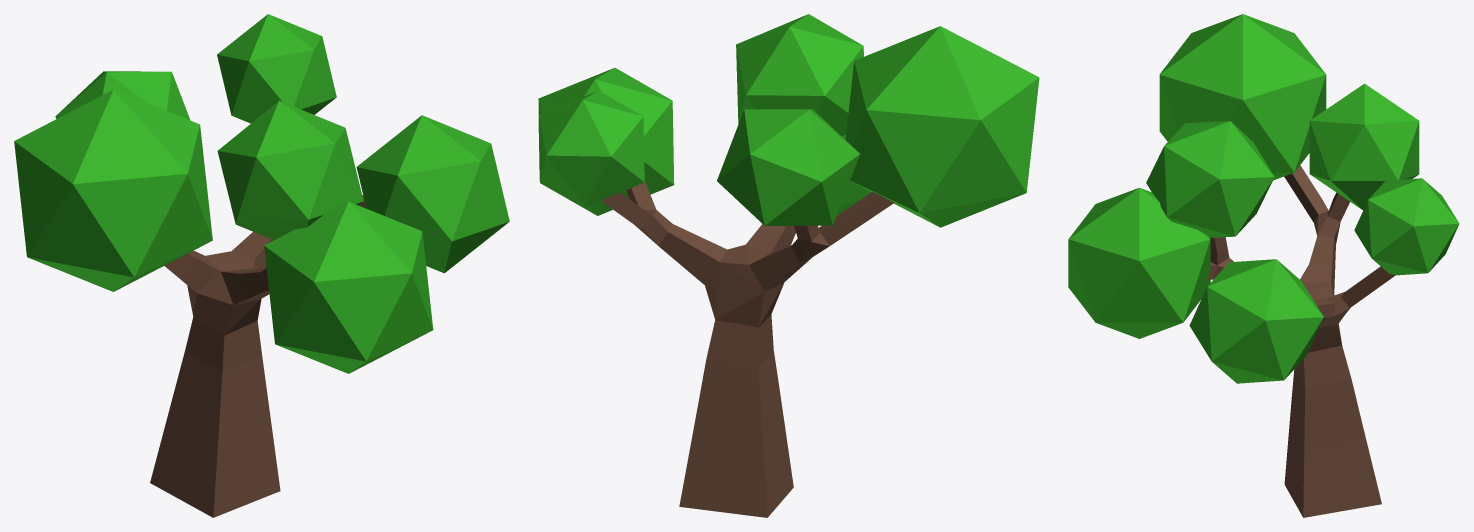
File: Treee.fbx
The picture shows the model from 3 angles, left to right: view 1: azimuth 30°, elevation 25°; view 2: azimuth 150°, elevation 25°; view 3: azimuth 270°, elevation 25°; orthographic projection. The views are drawn at different scales.
Parts seen in each view (by area): view 1: Icosphere.001, Cube.001, Icosphere.003, Icosphere.005, Icosphere.002, Icosphere.004, Icosphere; view 2: Cube.001, Icosphere.001, Icosphere, Icosphere.002, Icosphere.004, Icosphere.005; view 3: Cube.001, Icosphere.001, Icosphere.003, Icosphere.005, Icosphere.002, Icosphere, Icosphere.004.
Boxes of the visible parts, x1,y1,x2,y2 form: Icosphere.001: (14, 89, 212, 291); Cube.001: (150, 195, 366, 517); Icosphere.003: (264, 201, 433, 373); Icosphere.005: (356, 115, 509, 273); Icosphere.002: (217, 100, 363, 239); Icosphere.004: (217, 14, 336, 123); Icosphere: (55, 71, 190, 120); Cube.001: (600, 181, 894, 517); Icosphere.001: (845, 26, 1039, 227); Icosphere: (717, 109, 859, 225); Icosphere.002: (736, 14, 863, 135); Icosphere.004: (538, 90, 644, 206); Icosphere.005: (538, 68, 674, 215); Cube.001: (1208, 165, 1395, 517); Icosphere.001: (1159, 14, 1326, 180); Icosphere.003: (1068, 187, 1210, 338); Icosphere.005: (1189, 259, 1323, 383); Icosphere.002: (1146, 121, 1274, 237); Icosphere: (1309, 83, 1419, 210); Icosphere.004: (1354, 178, 1459, 275).
Size of the model in its own units: 505 by 481 by 408.
